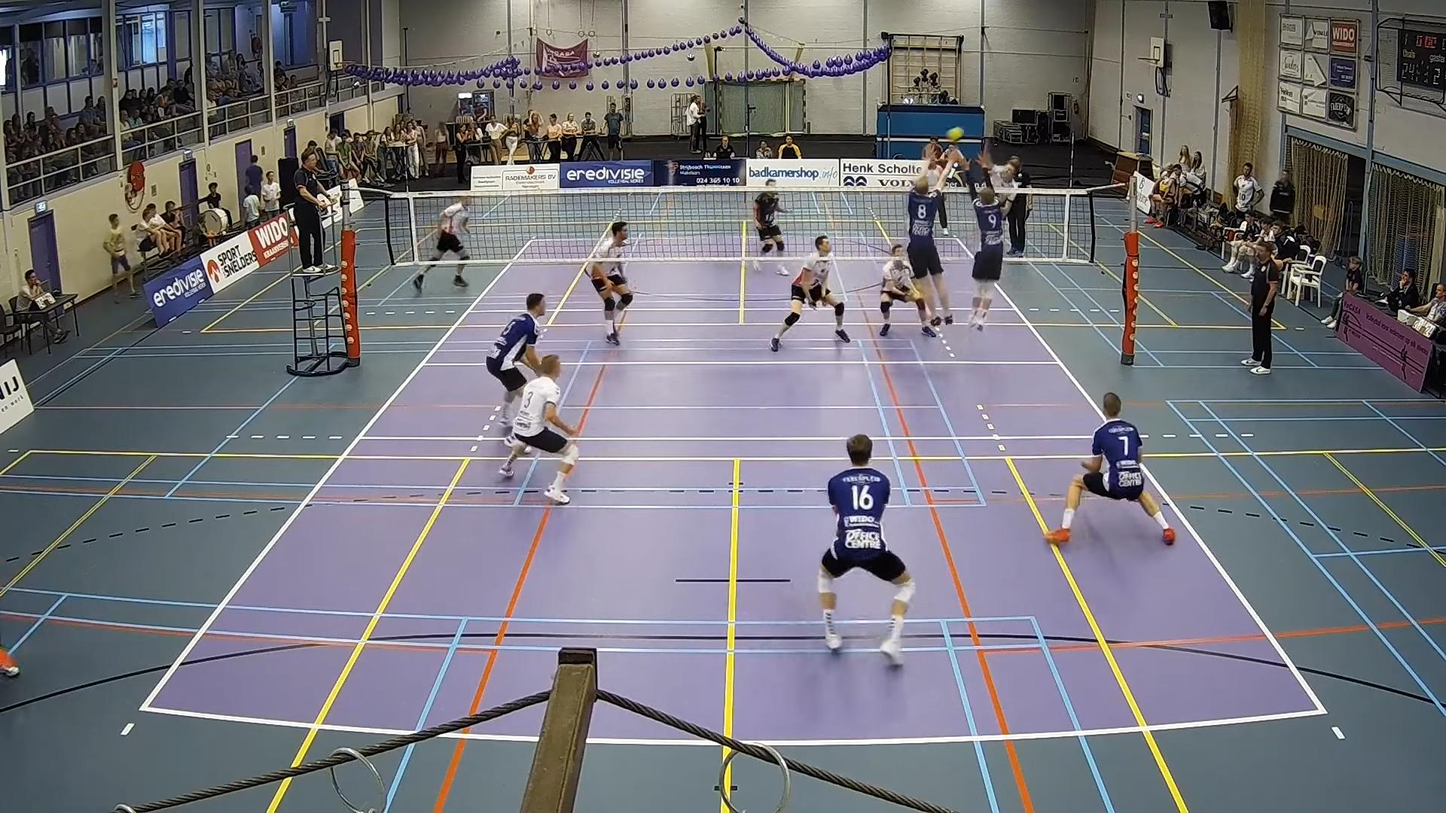attacco: (975, 134, 1025, 248)
muro: (966, 160, 1019, 338), (902, 153, 951, 339)
